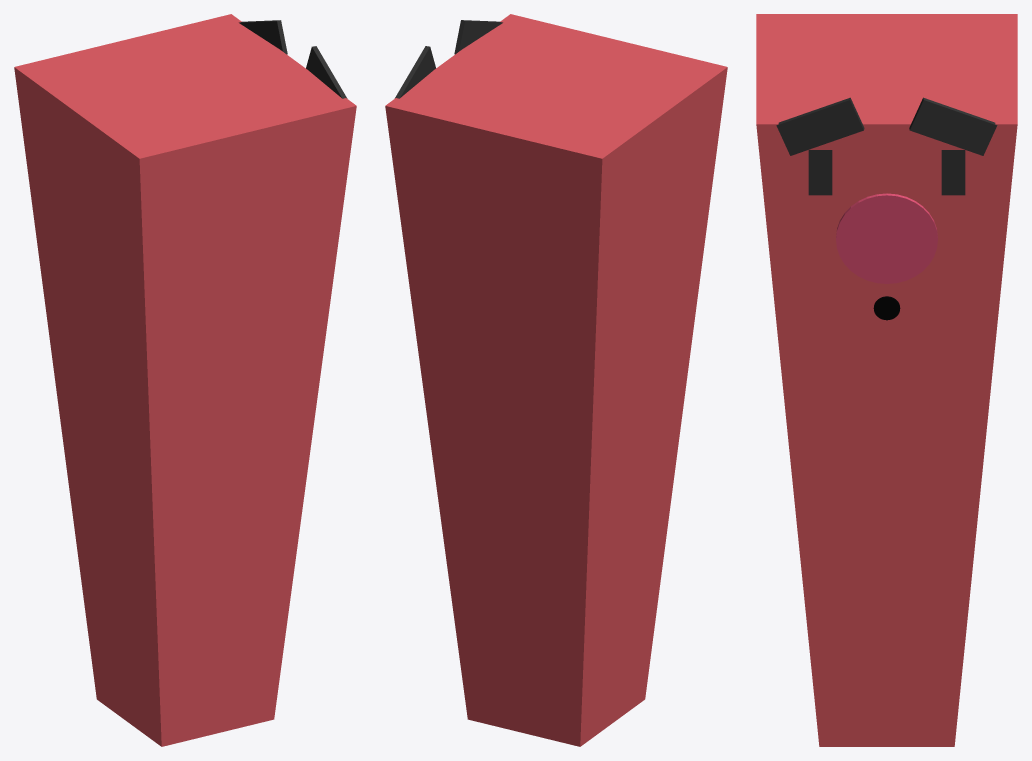
Rendered from enemy1.glb.
The picture shows the model from 3 angles, left to right: view 1: azimuth 30°, elevation 25°; view 2: azimuth 150°, elevation 25°; view 3: azimuth 270°, elevation 25°; orthographic projection. The views are drawn at different scales.
Visible parts, largest first — view 1: Cube, eyes.001; view 2: Cube, eyes.001; view 3: Cube, Cylinder, eyes.001, eyes, Cylinder.001.
Part boxes in pixels (<box>): Cube: <box>14,14,356,746</box>; eyes.001: <box>239,20,347,98</box>; Cube: <box>385,14,727,746</box>; eyes.001: <box>394,20,502,98</box>; Cube: <box>756,14,1017,746</box>; Cylinder: <box>836,193,937,283</box>; eyes.001: <box>776,97,997,155</box>; eyes: <box>808,150,965,195</box>; Cylinder.001: <box>873,296,900,320</box>.
Bounding box in the file's own units: 1.73 × 4.82 × 1.69.
